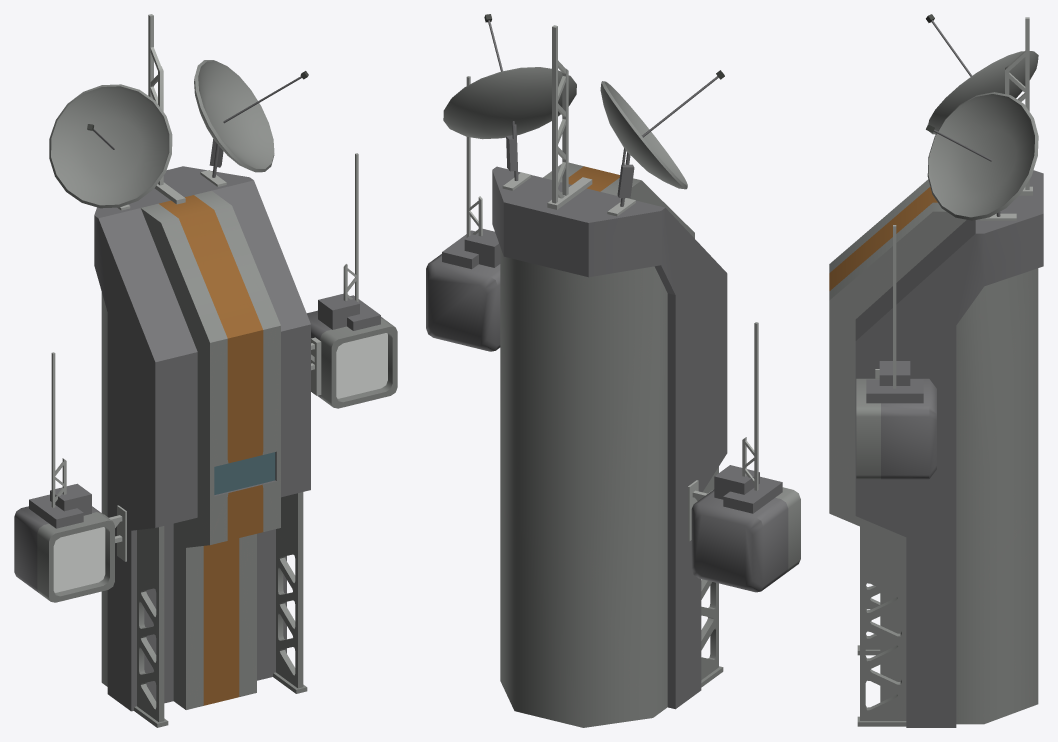
Rendered from computer.glb.
3 renders of one model, left to right at view 1: azimuth 30°, elevation 25°; view 2: azimuth 150°, elevation 25°; view 3: azimuth 270°, elevation 25°, orthographic. The views are drawn at different scales.
Parts seen in each view (by area): view 1: Computer_Large; view 2: Computer_Large; view 3: Computer_Large.
Boxes of the visible parts, left/top/right/bottom form: Computer_Large: left=14, top=14, right=397, bottom=727; Computer_Large: left=426, top=14, right=800, bottom=727; Computer_Large: left=829, top=14, right=1043, bottom=727.
Size of the model in its own units: 1.29 by 2.38 by 0.6898.
Materials: 1 (1 with a texture image).
